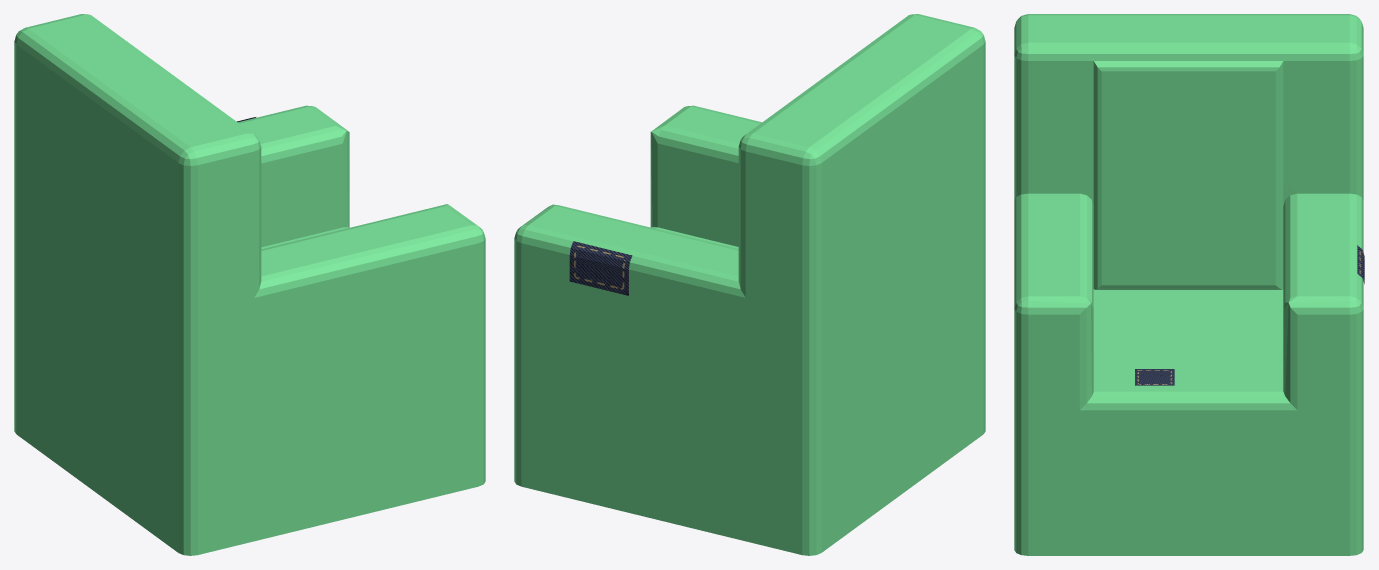
The model's file is sofa.fbx.
The picture shows the model from 3 angles, left to right: view 1: azimuth 30°, elevation 25°; view 2: azimuth 150°, elevation 25°; view 3: azimuth 270°, elevation 25°; orthographic projection.
Parts seen in each view (by area): view 1: Plane; view 2: Plane; view 3: Plane.
Part boxes in pixels (<box>): Plane: <box>14,14,485,555</box>; Plane: <box>514,14,985,555</box>; Plane: <box>1014,14,1364,555</box>.
Size of the model in its own units: 329 by 415 by 330.
